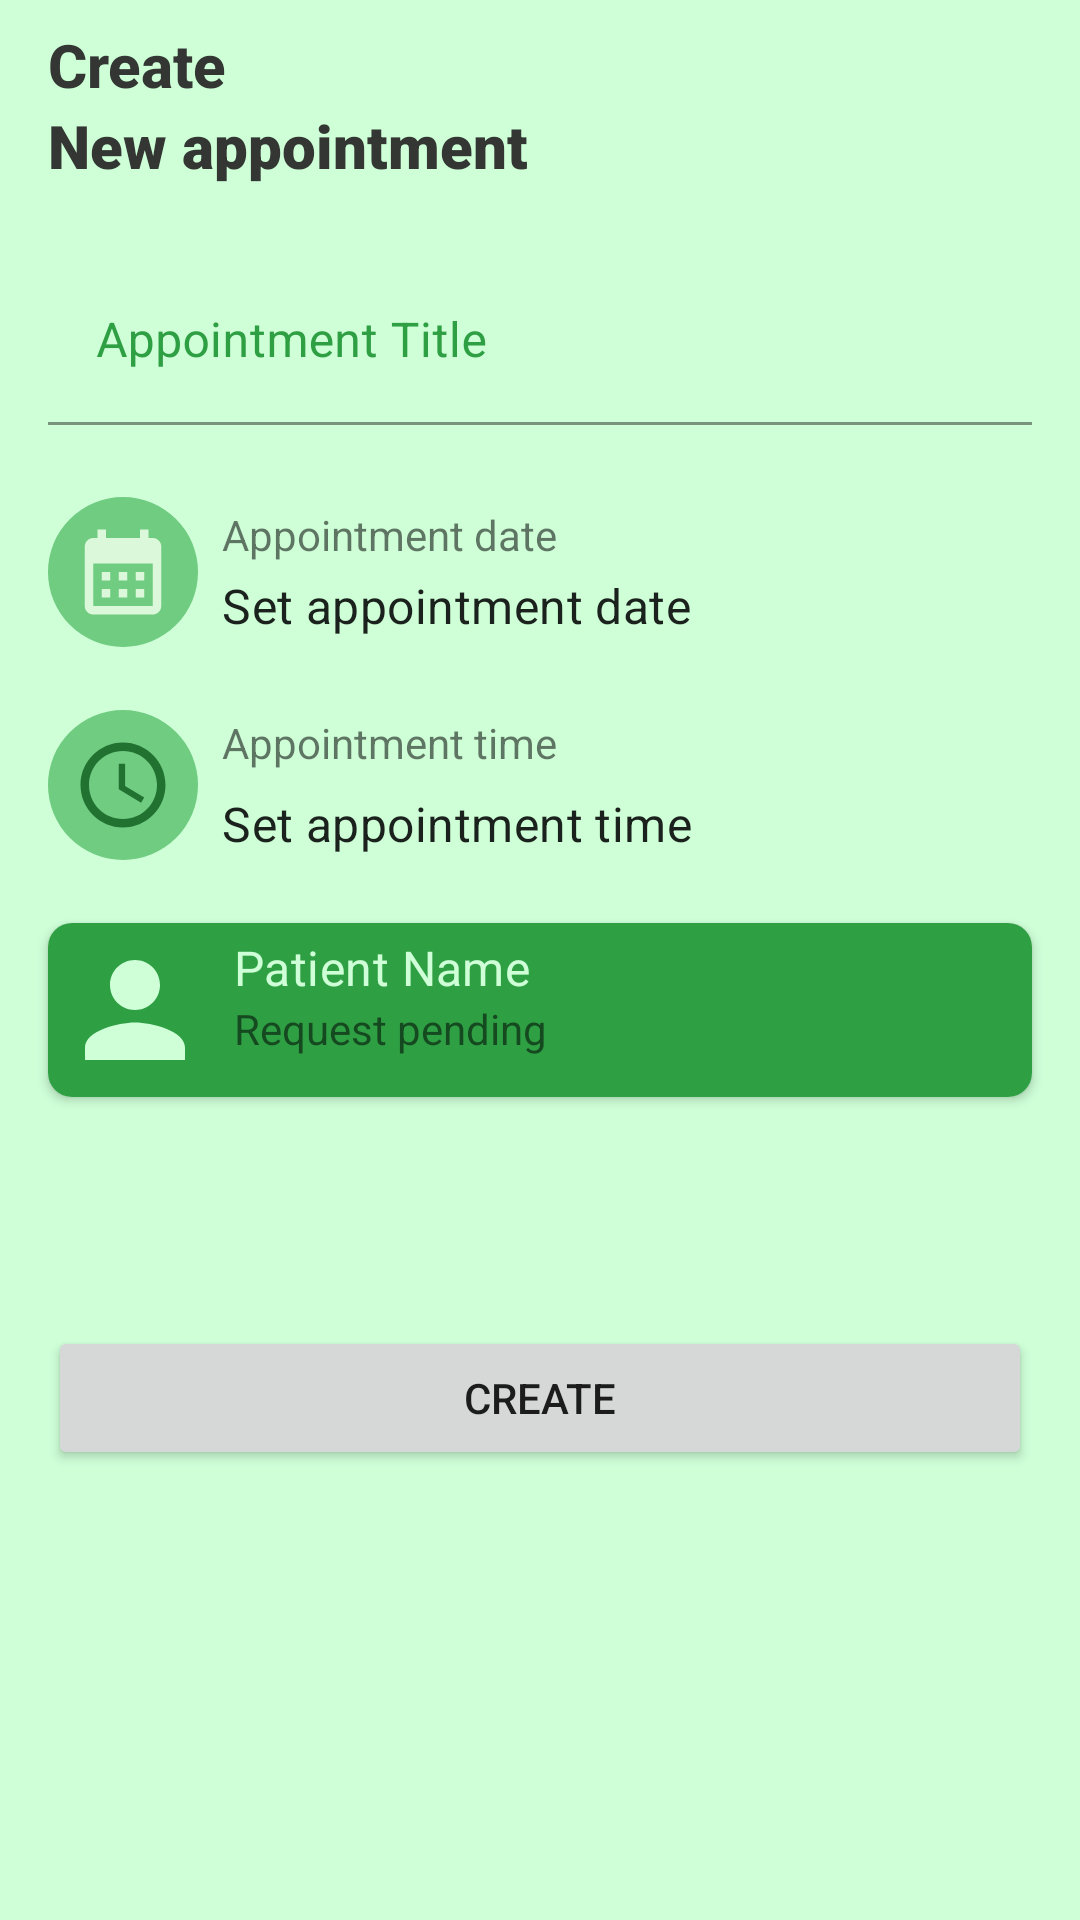

Icons on this 1080px×1920px Android screen, each with its box as (x1, y1, x2, y2):
access time: (48, 710, 198, 860)
calendar month: (48, 497, 198, 647)
person: (85, 960, 185, 1060)
